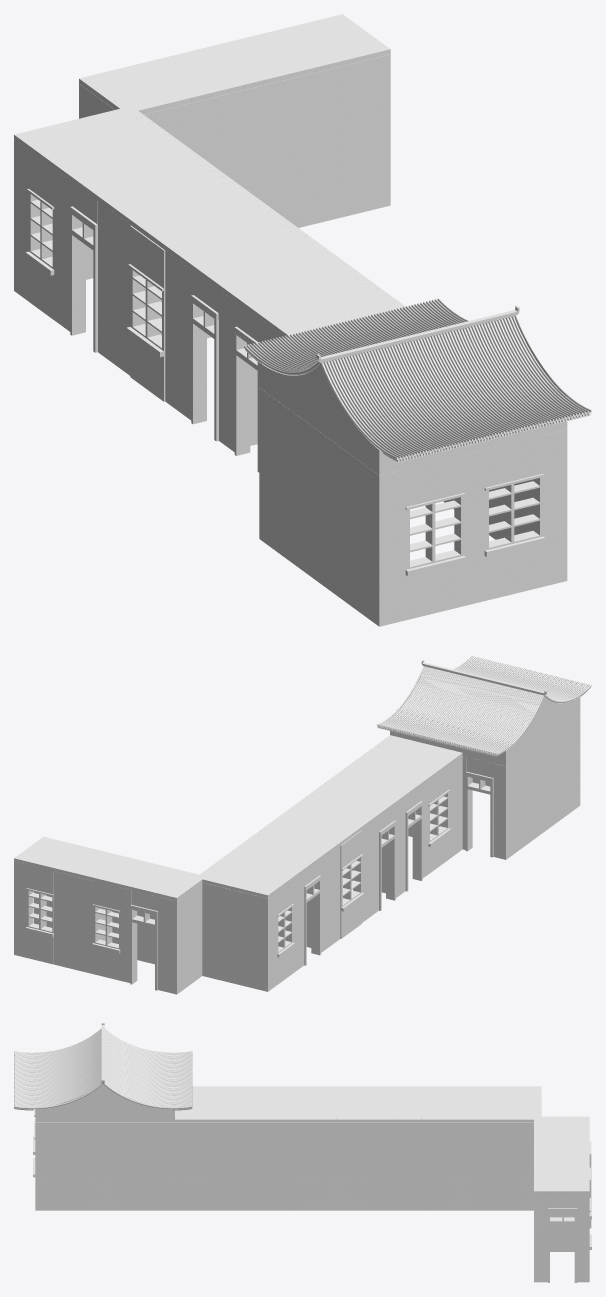
3 views of the same model, one above another, from view 1: azimuth 30°, elevation 25°; view 2: azimuth 150°, elevation 25°; view 3: azimuth 270°, elevation 25° (orthographic). The views are drawn at different scales.
Visible parts, largest first — view 1: Geom3D_ (×19), Geom3D; view 2: Geom3D_ (×21), Geom3D; view 3: Geom3D_ (×4), Geom3D.
Boxes of the visible parts, box(x1,y1,x2,y2) form: Geom3D_ (×19): box(14, 54, 567, 626); Geom3D: box(14, 14, 405, 337); Geom3D_ (×21): box(14, 663, 581, 994); Geom3D: box(14, 735, 462, 900); Geom3D_ (×4): box(33, 1084, 589, 1282); Geom3D: box(175, 1086, 589, 1194).
Size of the model in its own units: 9.26 by 4.55 by 17.87.
1 material, 1 textured.
